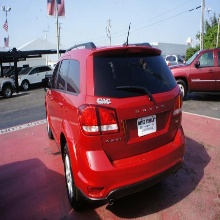no damage: (42, 42, 187, 210), (170, 48, 220, 99), (16, 64, 53, 90), (165, 54, 181, 66)
